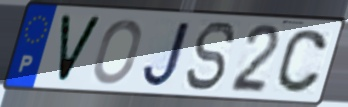2: (228, 23, 283, 96)
C: (273, 27, 330, 96)
J: (140, 19, 194, 89)
O: (90, 17, 144, 86)
S: (183, 20, 238, 94)
V: (56, 12, 105, 86)
